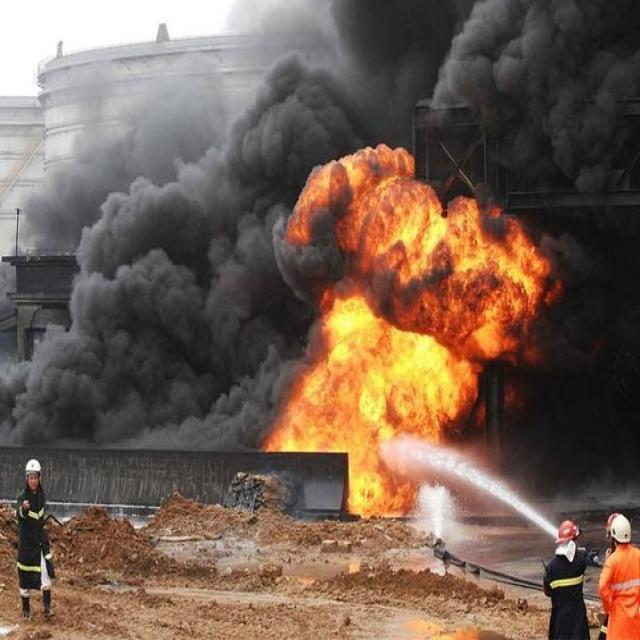fire: (248, 140, 565, 520)
